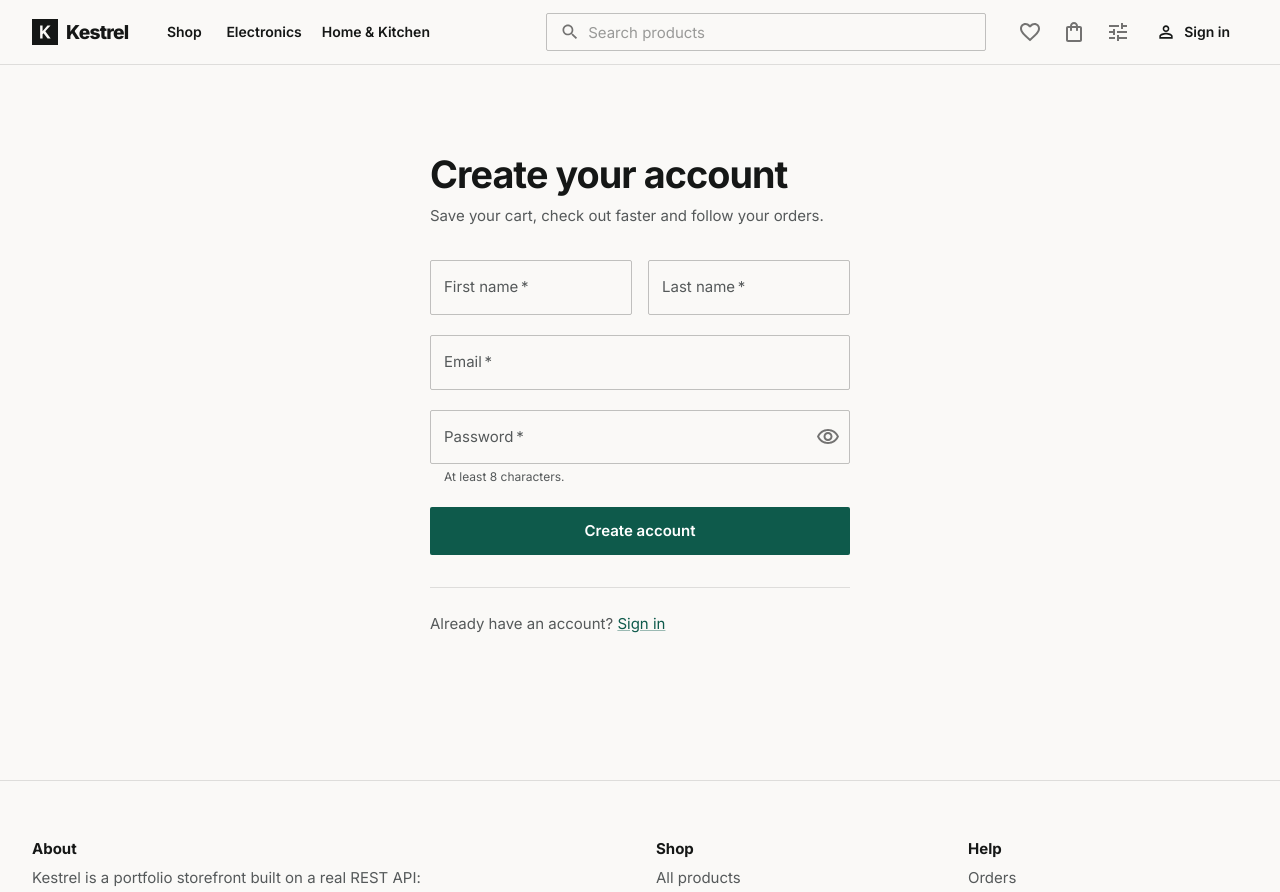
it: authentication › shows an already-registered email on the email field
Type "Jane" into the field labelled "First name *".
click(531, 288); type("Jane")  # box [430,260,632,315]
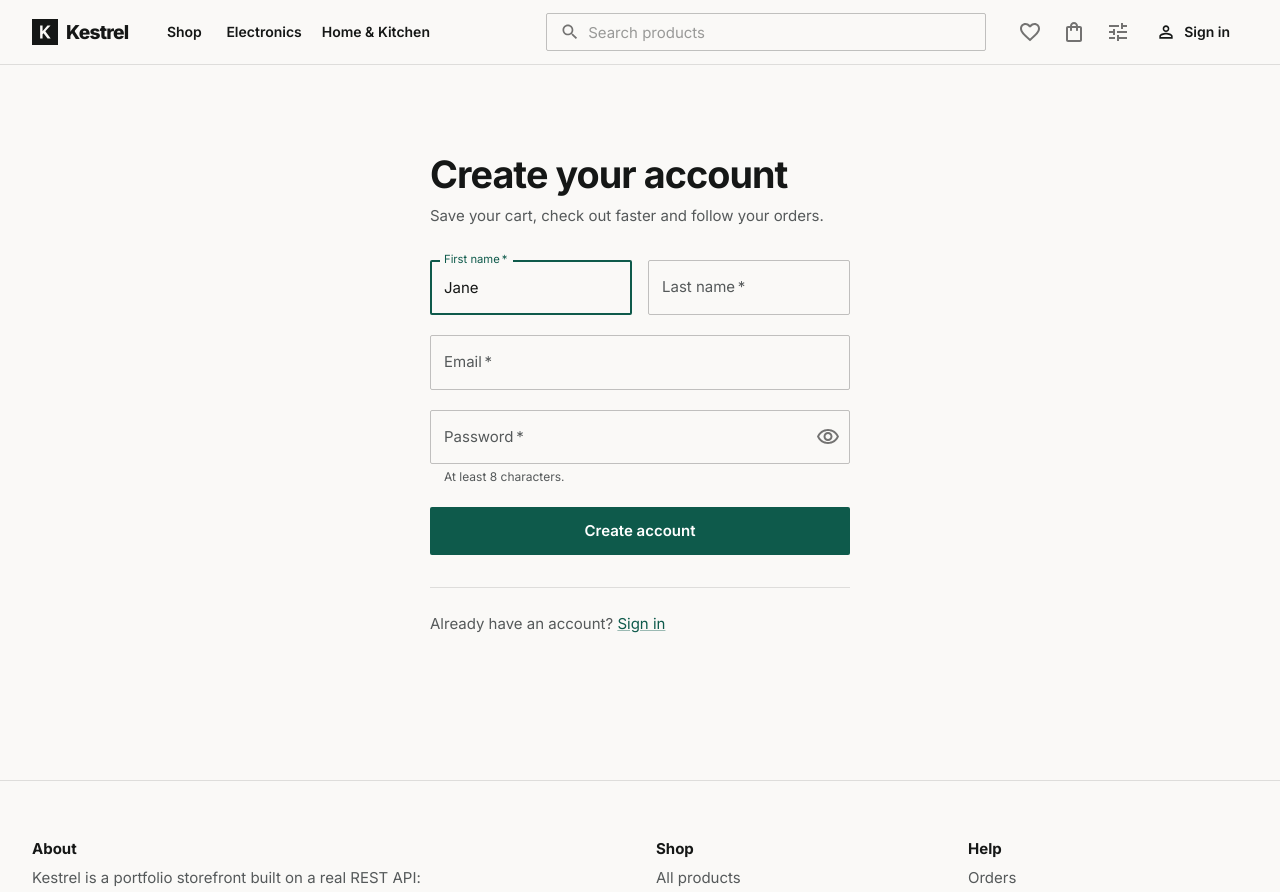
Type "Doe" into the field labelled "Last name *".
click(749, 288); type("Doe")  # box [648,260,850,315]
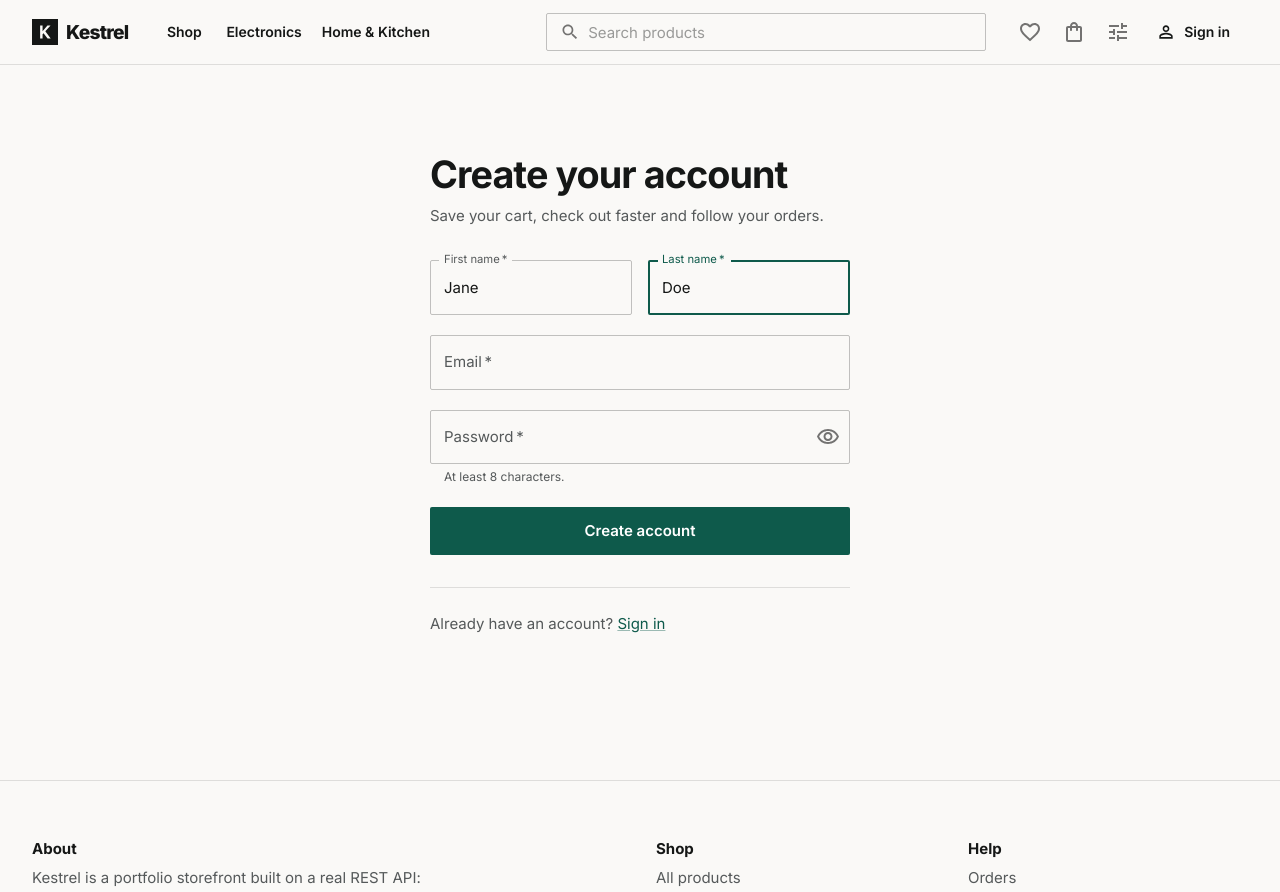
Type "customer@example.com" into the field labelled "Email *".
click(640, 362); type("customer@example.com")  # box [430,335,850,390]
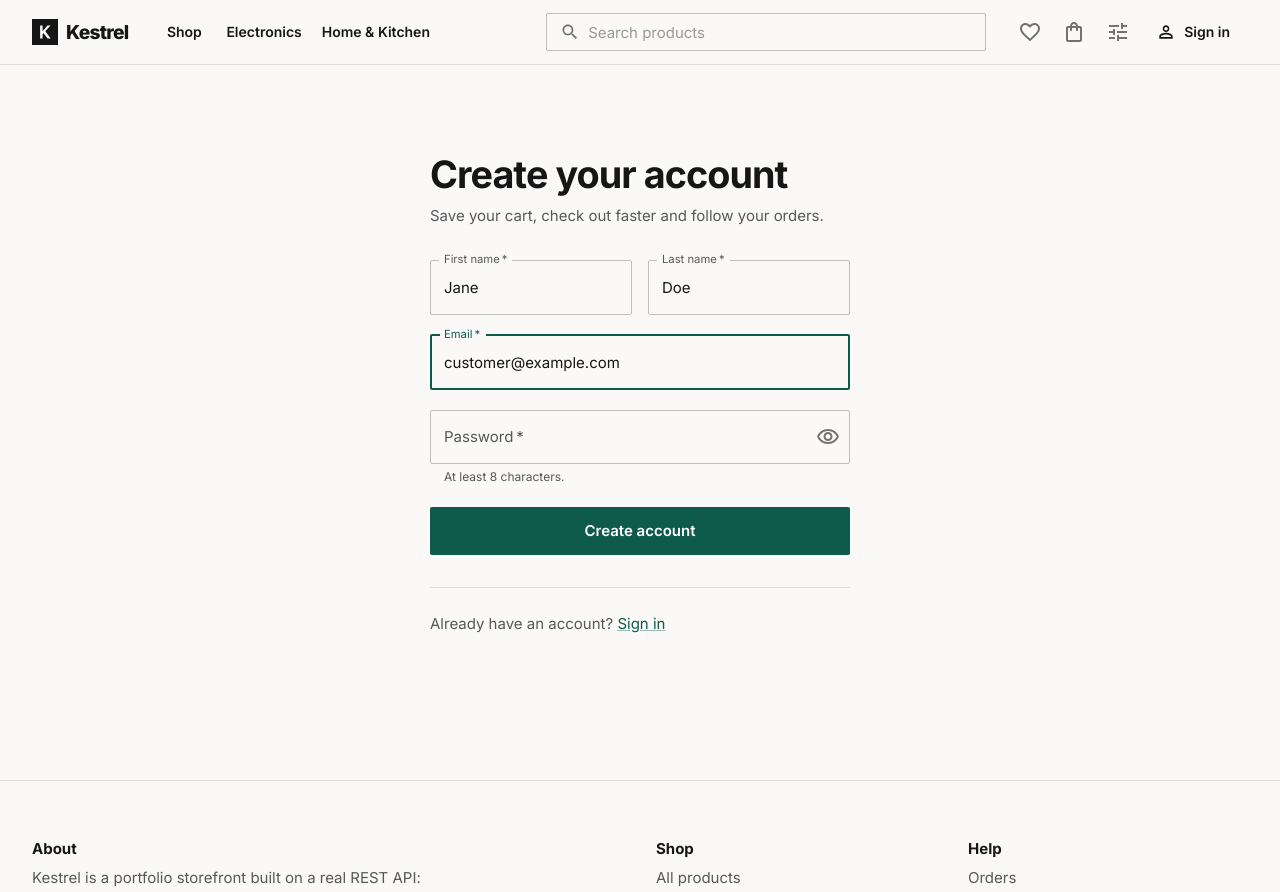
Type "a-good-password" into the password field labelled "Password *".
click(615, 437); type("a-good-password")  # box [430,410,800,464]
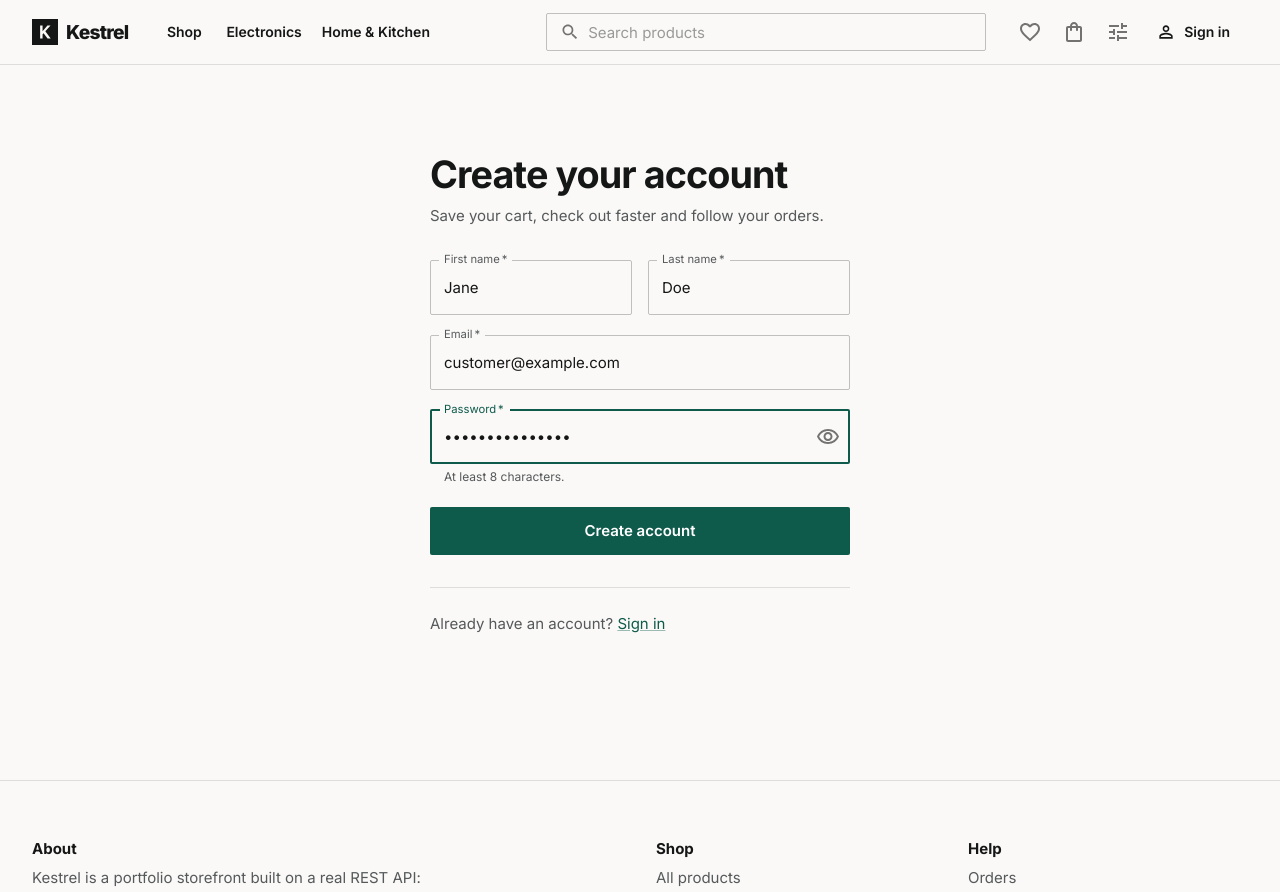
Click the button "Create account".
click(640, 531)  # box [430,507,850,555]
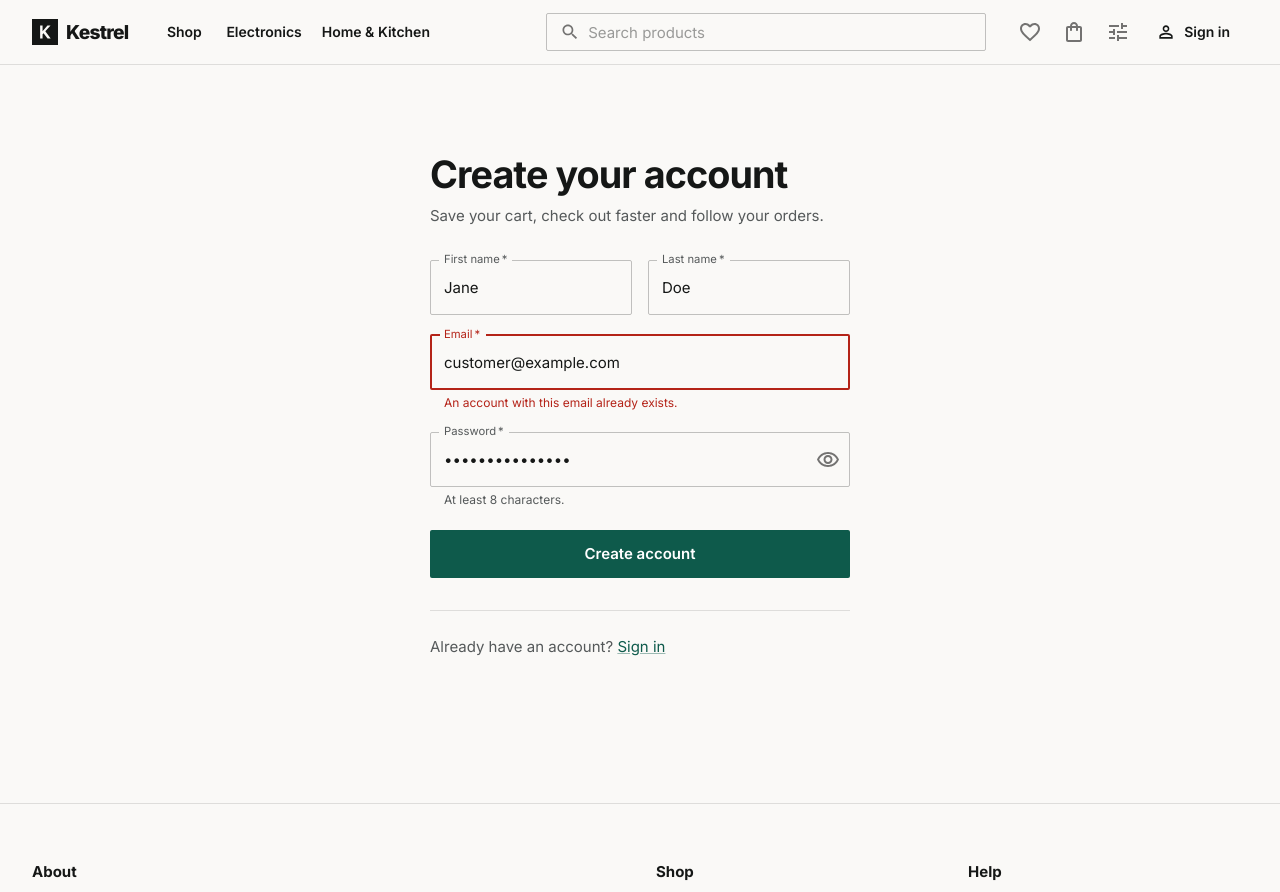
Expected: the text "An account with this email already exists." is shown, [444,394,678,410]
